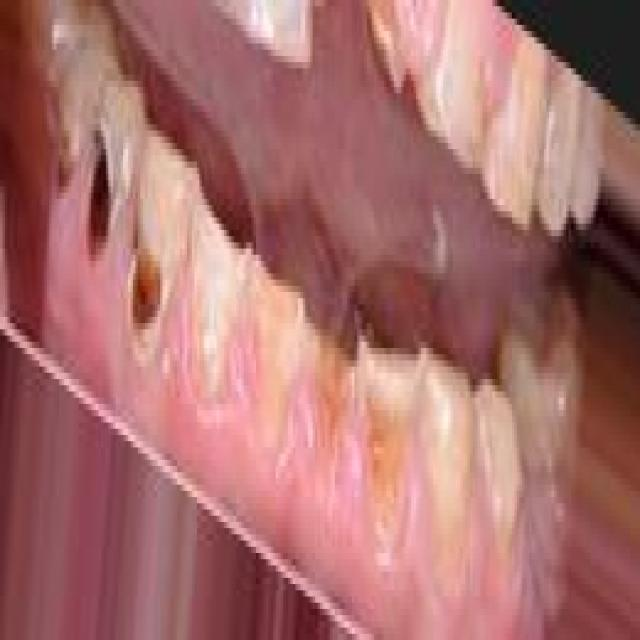caries: (345, 306, 404, 538), (415, 346, 471, 588), (291, 287, 351, 501), (296, 0, 436, 87), (490, 16, 542, 222), (241, 263, 294, 462), (515, 260, 571, 436), (186, 187, 232, 398), (471, 373, 518, 565), (124, 147, 166, 353), (434, 0, 484, 166), (77, 107, 121, 261), (541, 78, 584, 222), (48, 46, 83, 206)
